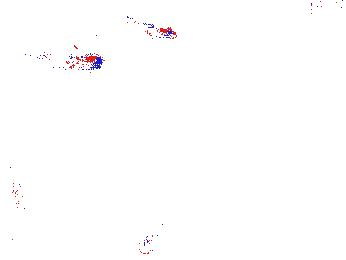X-ray fish: (135, 223, 167, 253)
red belly glassfish: (38, 46, 108, 73), (124, 16, 177, 42)
redtail glassfish: (1, 179, 31, 260)
